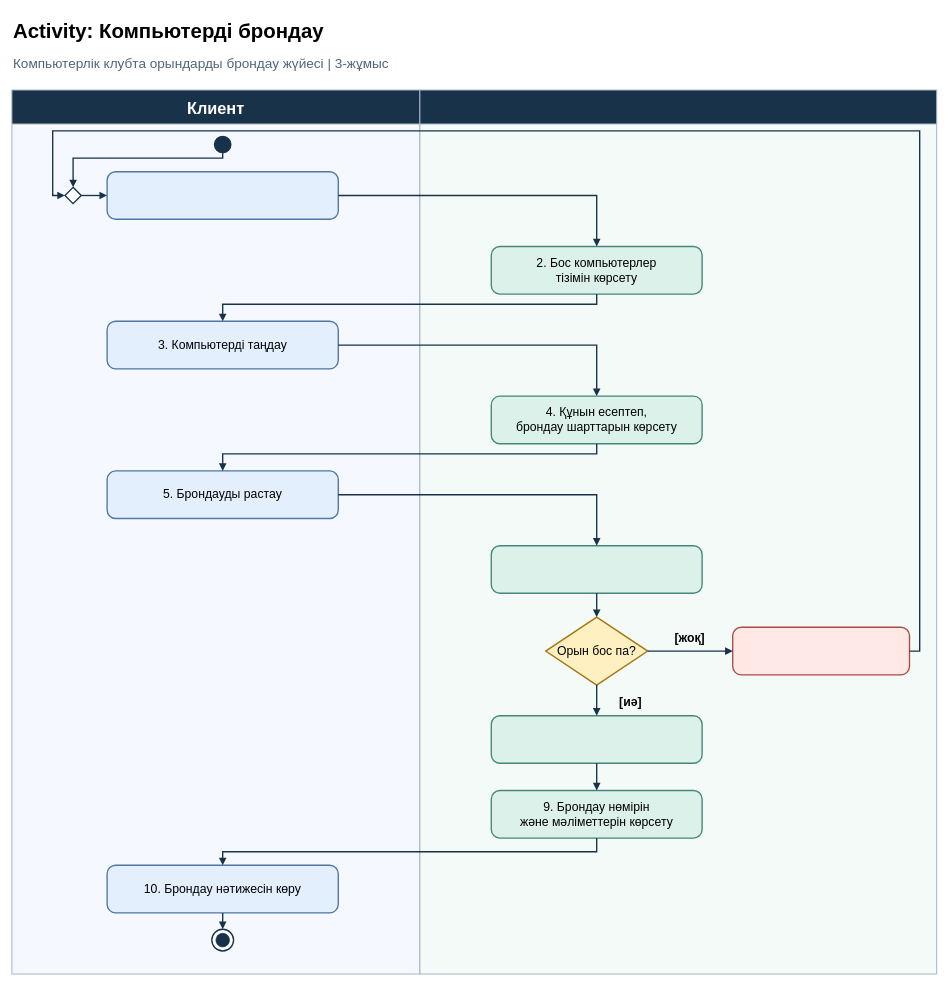
Image size: 949x986. Some labels were removed from this diagram. The box of each missing label's shape, as (x1, y1, x2, y2) in pixels:
1. Күнді, басталу уақытын және ұзақтығын таңдау: (106, 171, 339, 220)
6. Таңдалған уақыттағы бос орынды қайта тексеру: (490, 545, 702, 594)
7. Бос орын жоқ екенін хабарлау: (732, 626, 910, 675)
8. Брондауды сақтау: (490, 715, 702, 764)
Брондау жүйесі: (419, 89, 937, 974)
